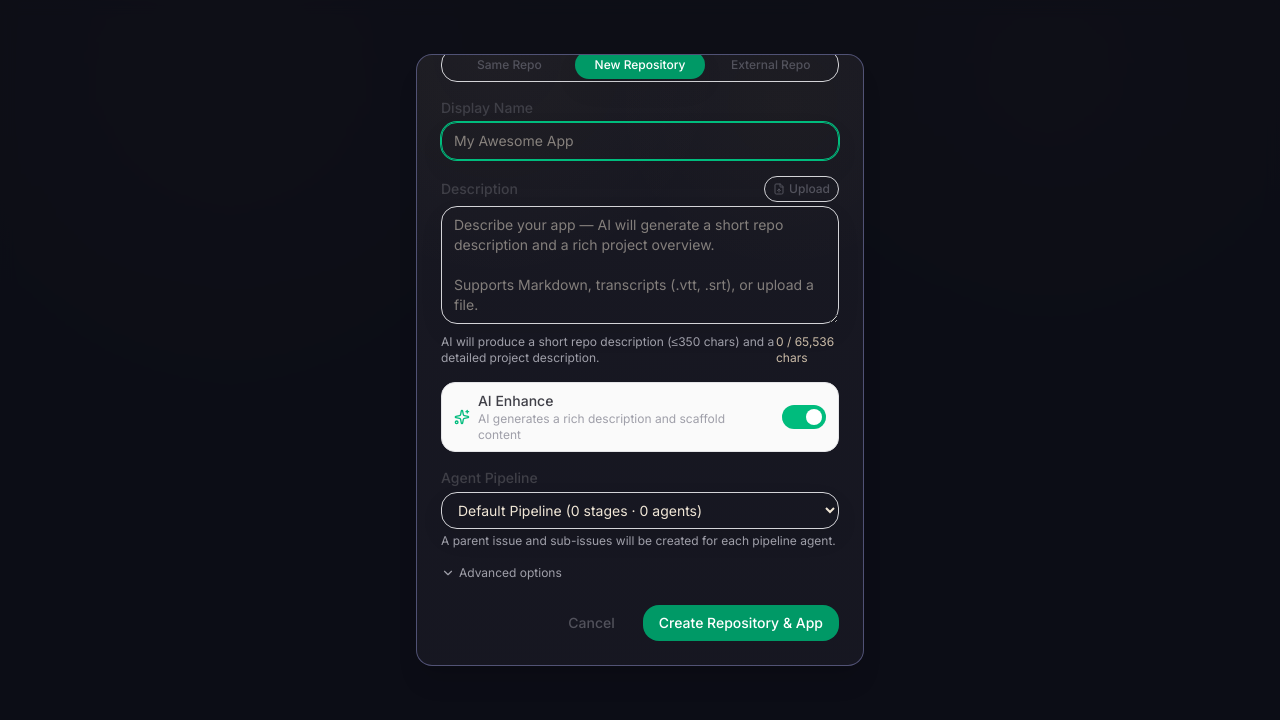
Test: CreateAppDialog — removed fields and layout changes › renders New Repository Settings inside Advanced options for new-repo
The image size is (1280, 720).
(page scrolled)
Expand advanced options
Click the button "Advanced options".
click(501, 573)  # box [441,565,562,581]
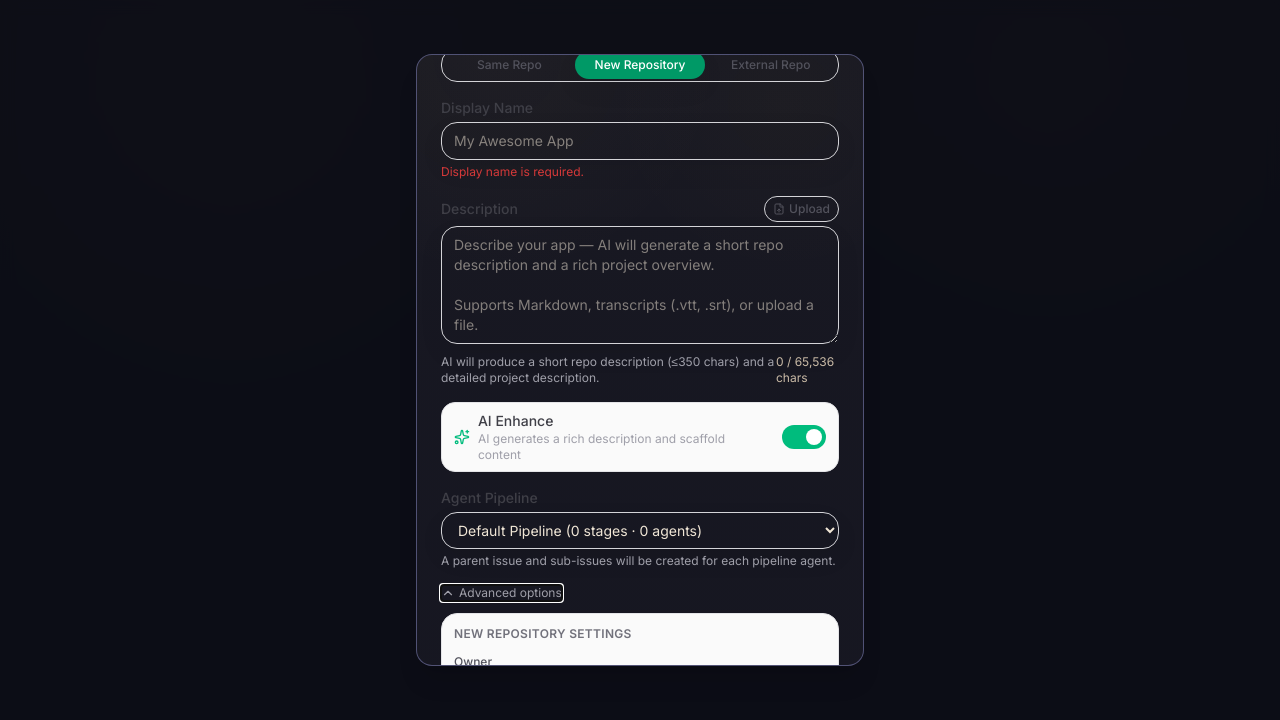
Expected: the text "New Repository Settings" is shown, [454,626,632,641]
